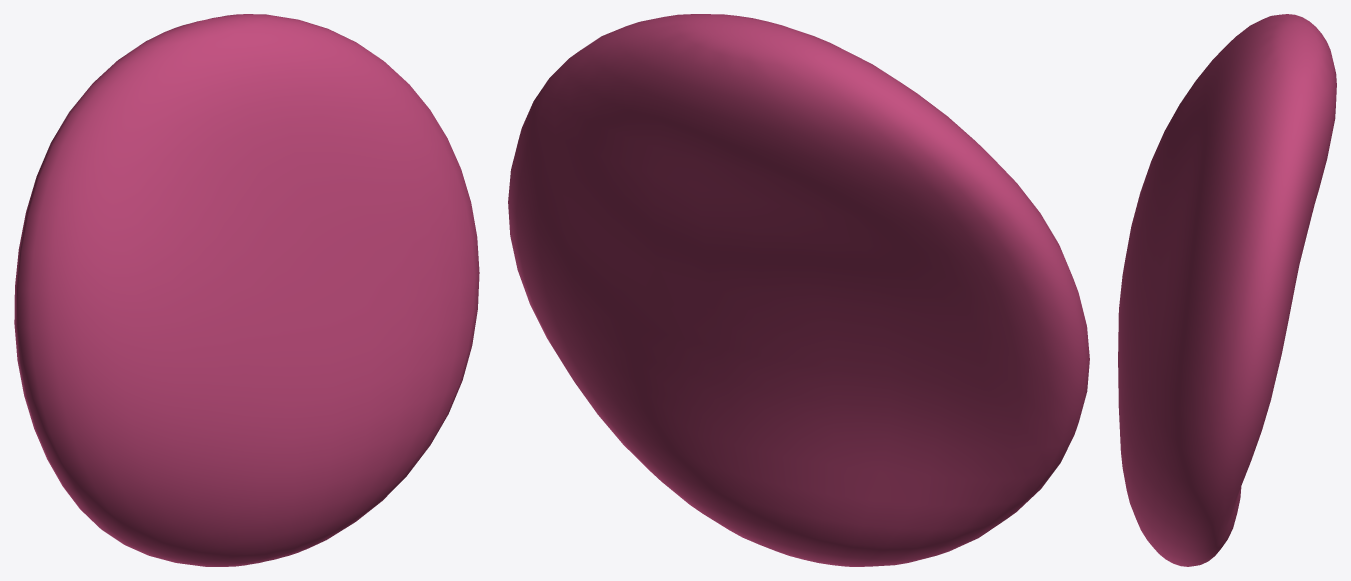
The picture shows the model from 3 angles, left to right: view 1: azimuth 30°, elevation 25°; view 2: azimuth 150°, elevation 25°; view 3: azimuth 270°, elevation 25°; orthographic projection. The views are drawn at different scales.
Visible parts, largest first — view 1: 右侧肩峰下囊; view 2: 右侧肩峰下囊; view 3: 右侧肩峰下囊.
Boxes of the visible parts, x1,y1,x2,y2 form: 右侧肩峰下囊: [14, 14, 479, 566]; 右侧肩峰下囊: [508, 14, 1089, 566]; 右侧肩峰下囊: [1118, 14, 1336, 566].
Size of the model in its own units: 0.0341 by 0.0342 by 0.0135.
